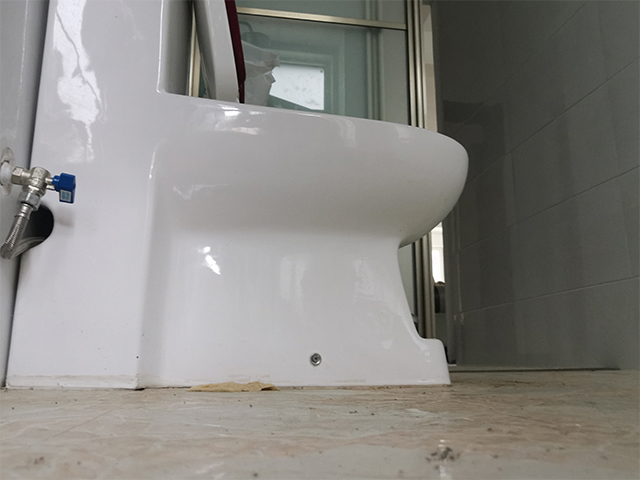closetool: (4, 1, 472, 392)
